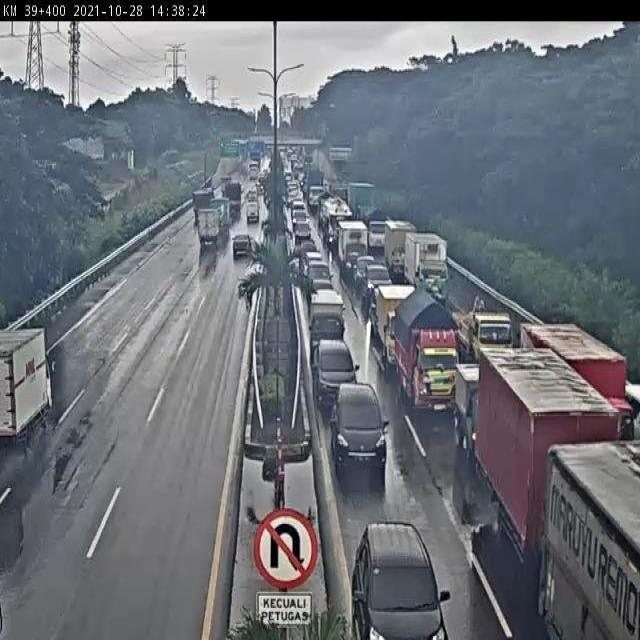car: (346, 506, 449, 640), (328, 371, 386, 468), (305, 329, 352, 399), (362, 261, 392, 304), (310, 274, 336, 306), (228, 240, 254, 269)
truck: (399, 303, 472, 421), (0, 319, 55, 443), (451, 356, 483, 460), (402, 233, 451, 300), (467, 297, 512, 367), (378, 284, 413, 365), (307, 291, 350, 349), (195, 208, 228, 248)
